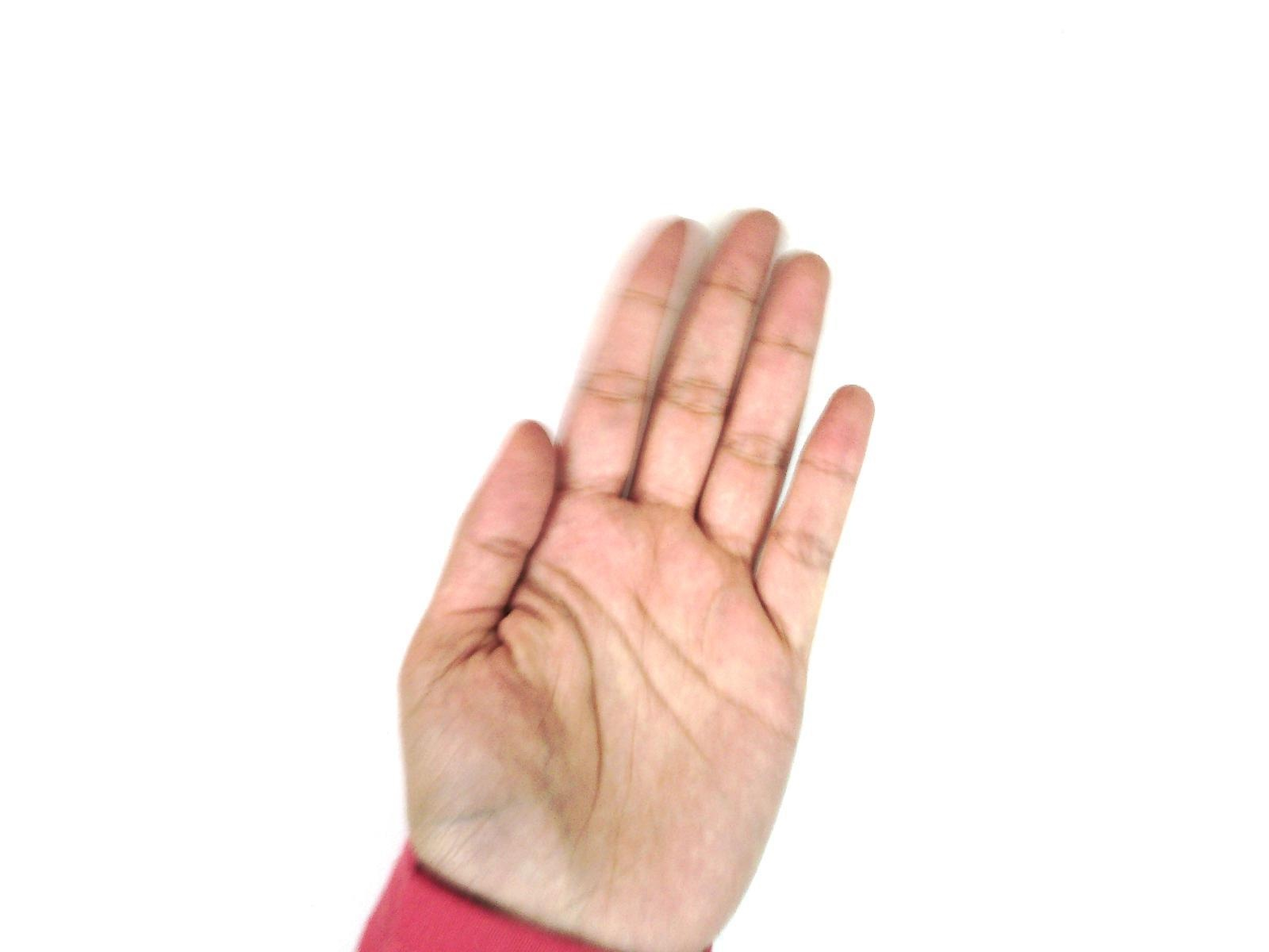open_palm: (393, 209, 878, 950)
